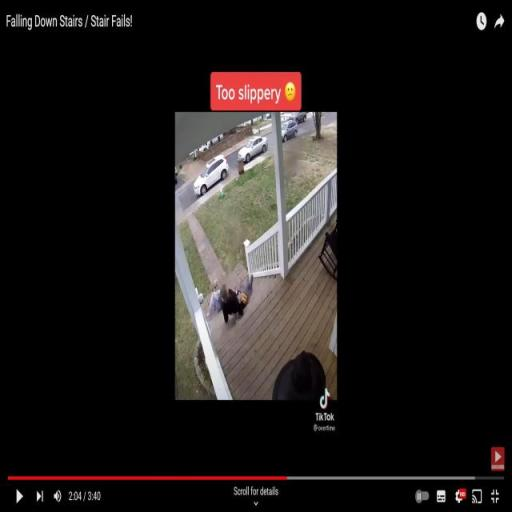Fall: (220, 273, 254, 325), (204, 277, 223, 320)
